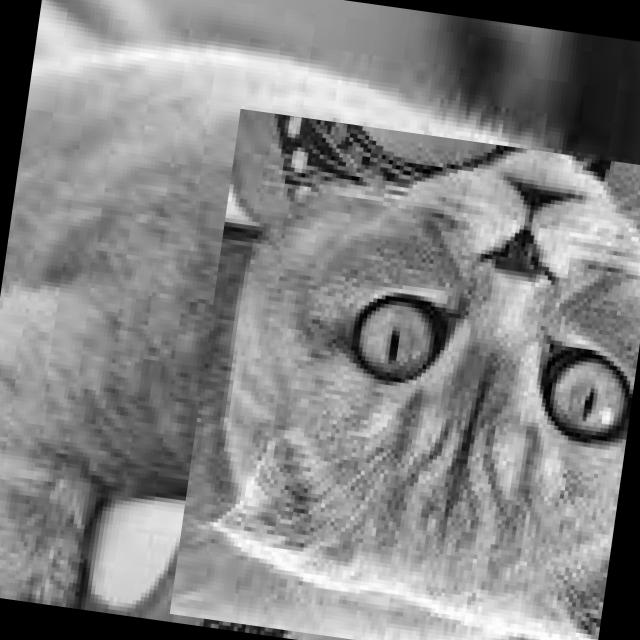scootish: (169, 109, 640, 640)
